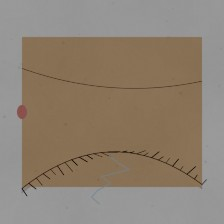foreign_body_visible: (87, 92, 128, 125)
